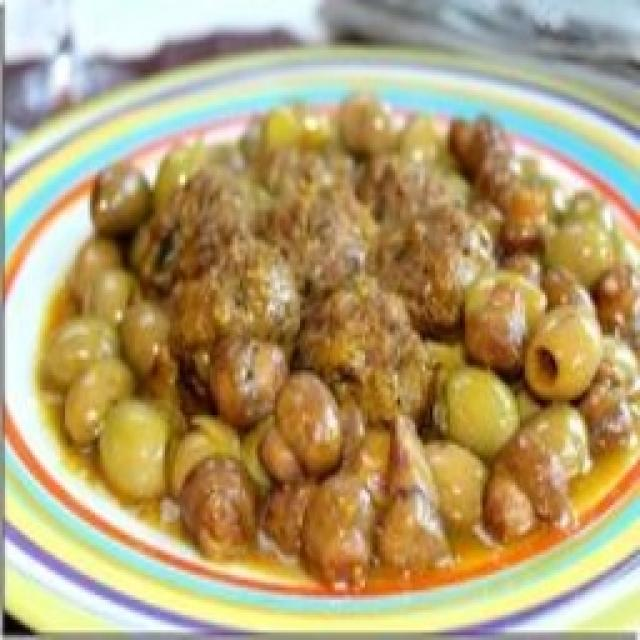Brik: (175, 241, 300, 353)
